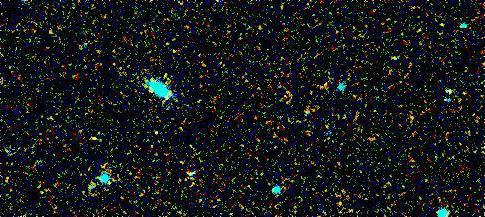star: (82, 124, 112, 154)
